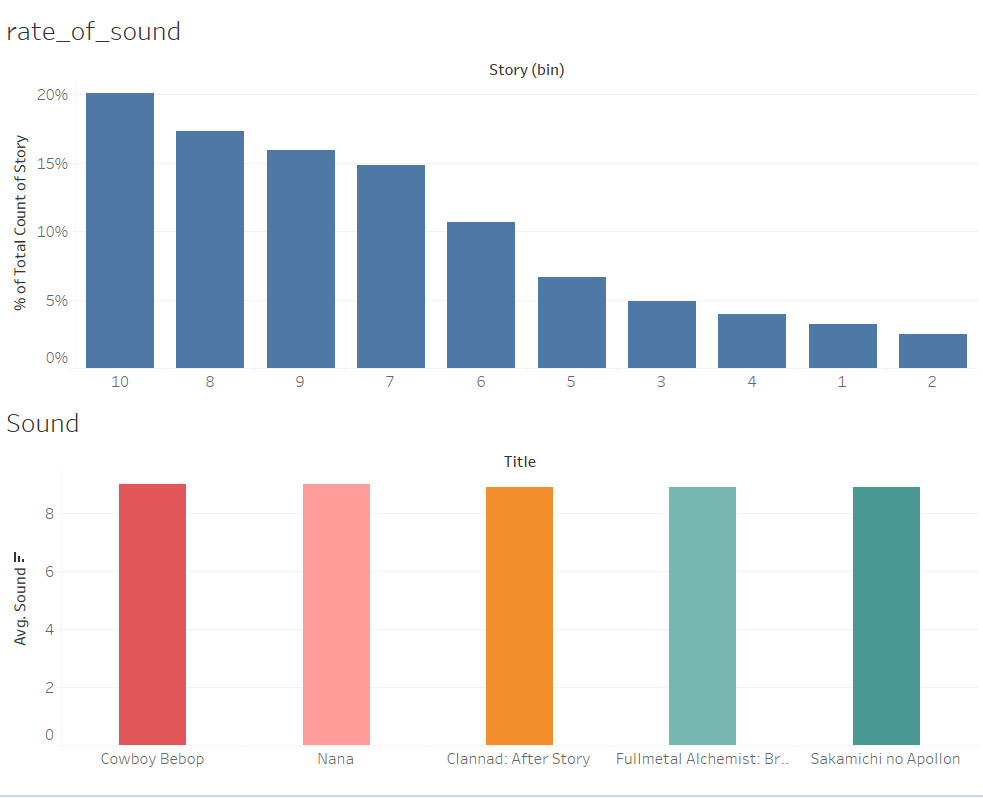

The page's visual inventory and layout, read from the dashboard file:
{"tool":"tableau","page":{"name":"Sound_dashboard","canvas":[1000,800],"ordinal":3},"visuals":[{"type":"worksheet","title":"rate_of_sound","mark":"Automatic","rows":["Story"],"cols":["Sound (bin) 2"],"box":[8,8,984,392]},{"type":"worksheet","title":"Sound","mark":"Automatic","rows":["Sound"],"cols":["title"],"box":[8,400,984,392]}]}

Visuals, with their boxes in screenshot pixels (x1, y1, x2, y2), scaled from the page's 1000x800 canvas onto the 983x798 screenshot:
"rate_of_sound" worksheet: (8,8,975,399)
"Sound" worksheet: (8,399,975,790)
